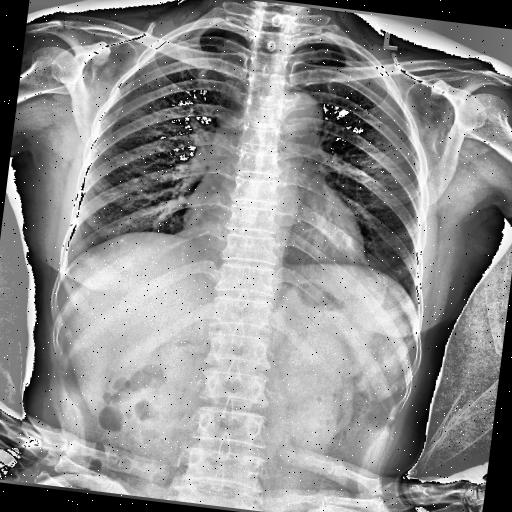0- Aortic enlargement: (243, 85, 328, 155), (268, 87, 330, 152), (268, 84, 327, 146)
3- Cardiomegaly: (178, 199, 369, 276)
